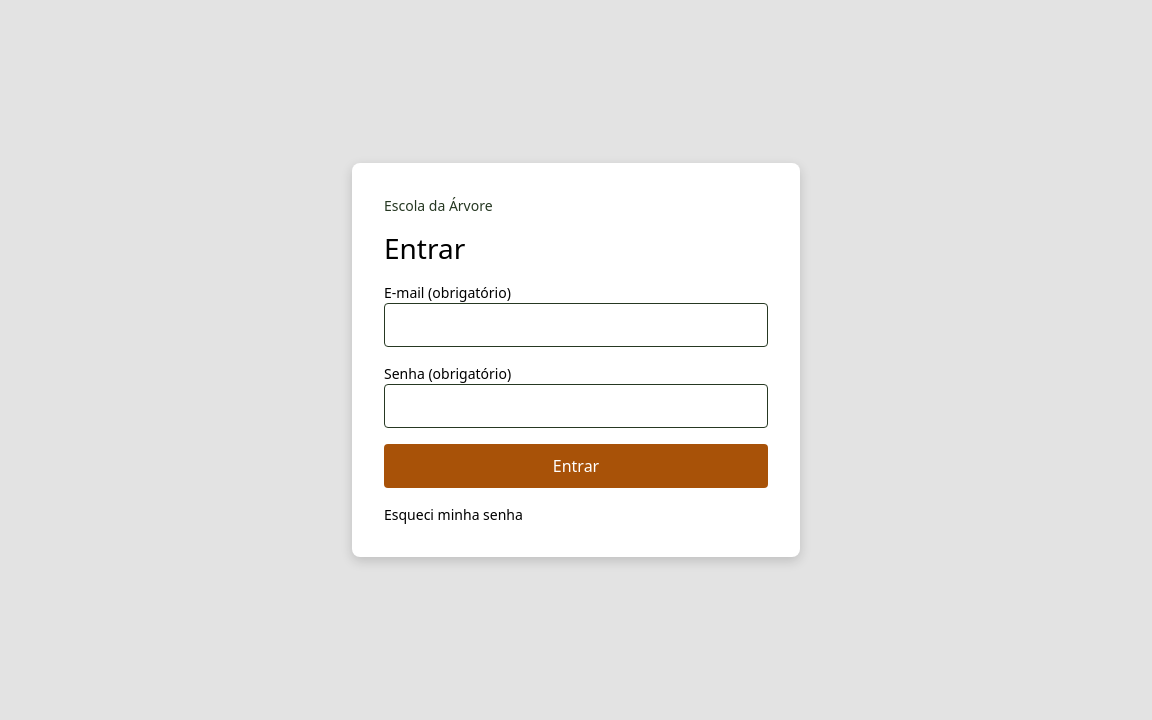
Test: US1 — entrada e painel › sair encerra a sessão e devolve a /entrar
Type "admin@escola.local" into the field labelled "E-mail (obrigatório)". click: {"x": 576, "y": 325}
box: [384,303,768,347]
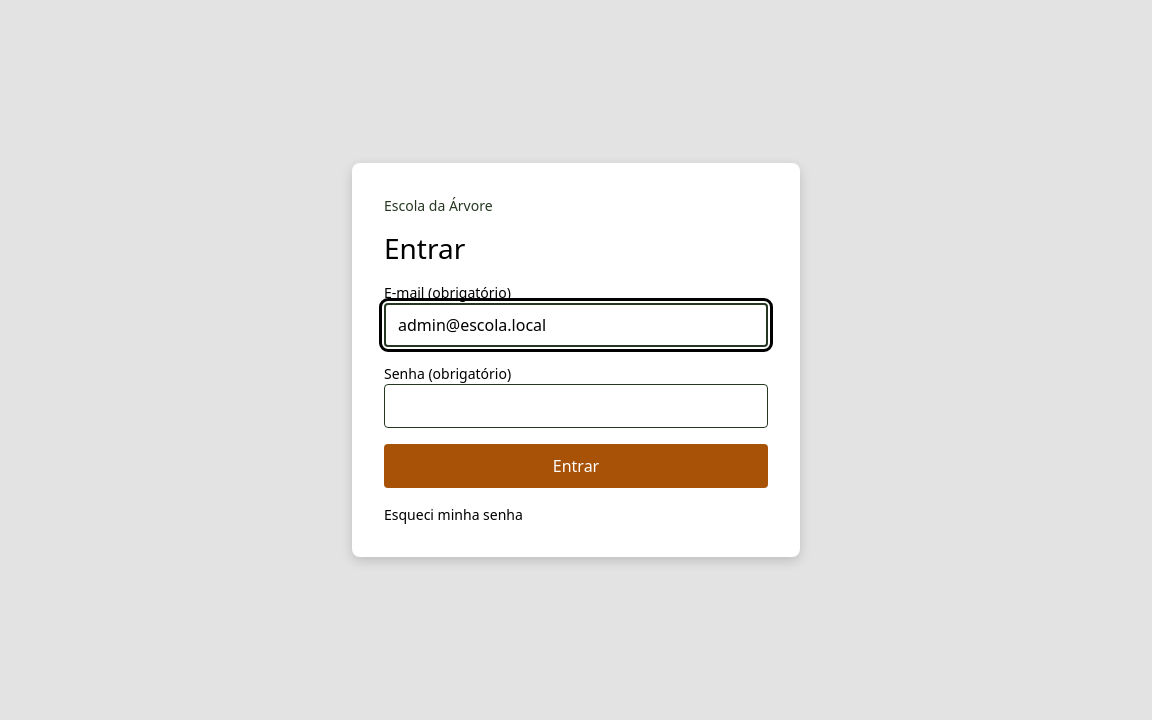
Type "senha123" into the password field labelled "Senha (obrigatório)". click: {"x": 576, "y": 406}
box: [384,384,768,428]
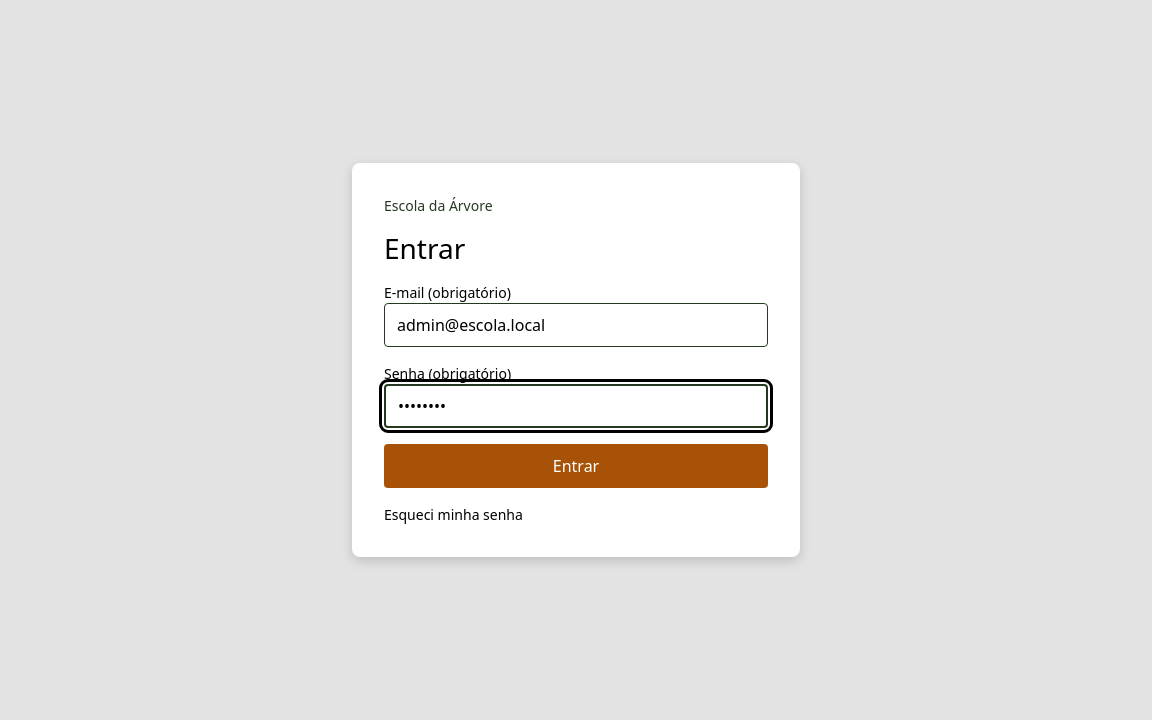
Click the button "Entrar". click: {"x": 576, "y": 466}
box: [384,444,768,488]
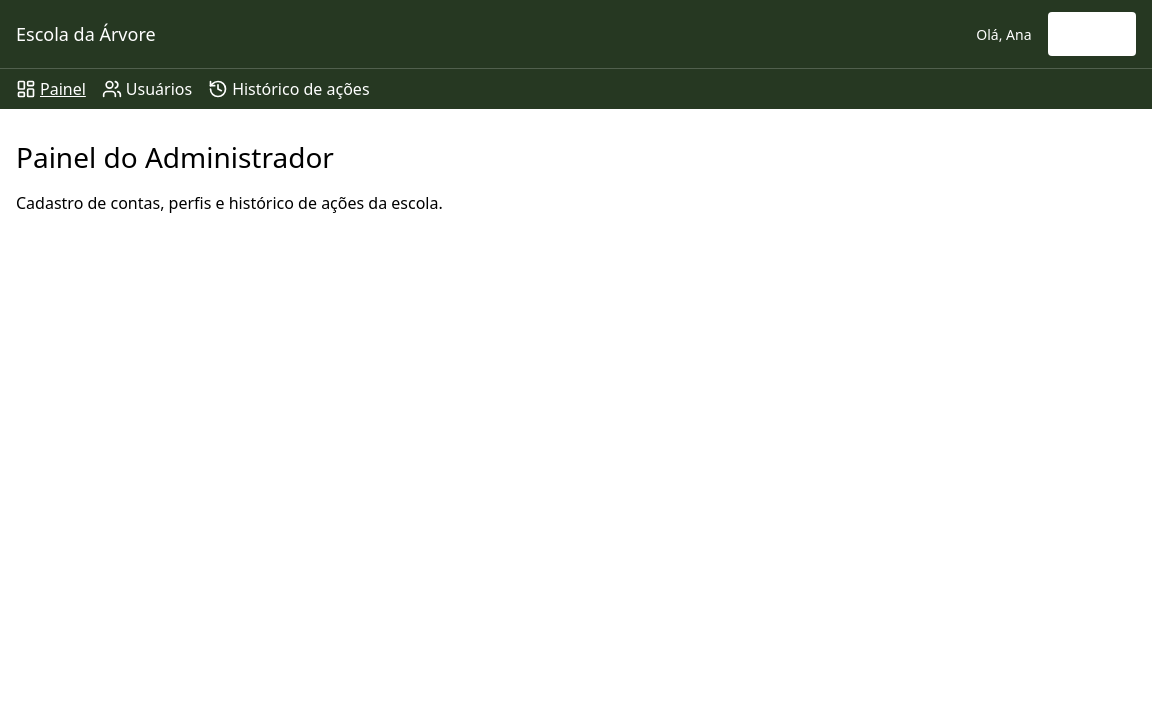
Expected: the heading "Painel do Administrador" is shown, [16,138,334,176]
Click the button "Sair". click: {"x": 1092, "y": 34}
box: [1048,12,1136,56]
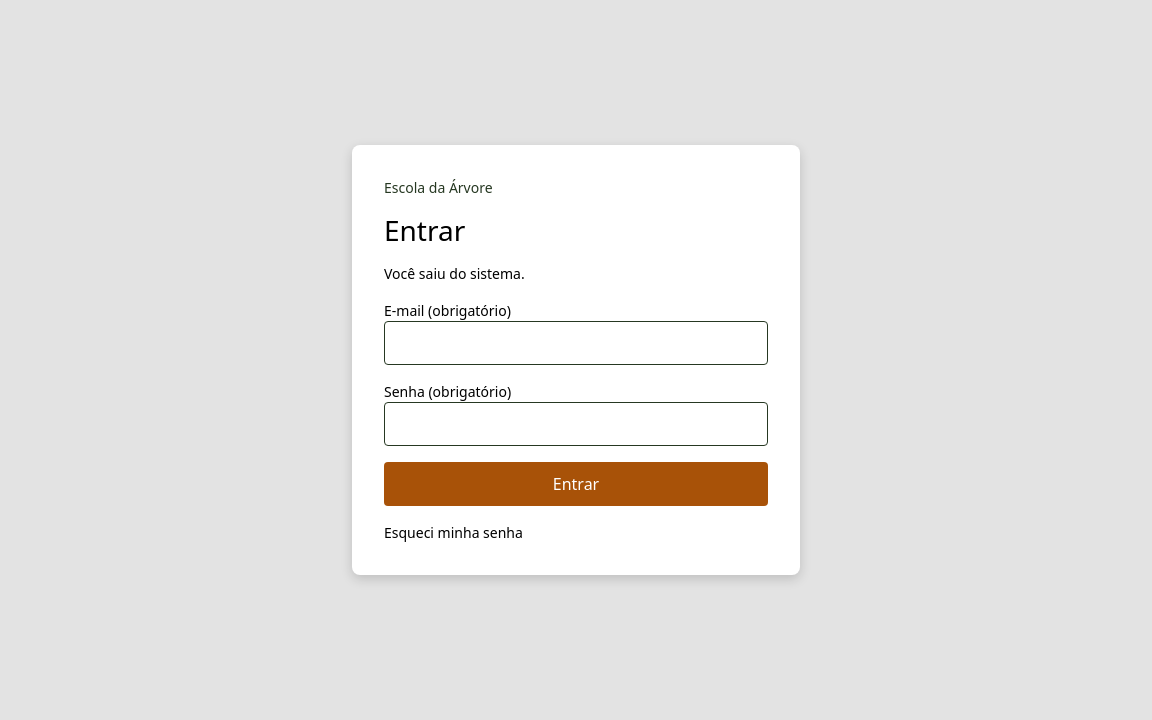
Expected: the heading "Entrar" is shown, [384,211,465,249]
